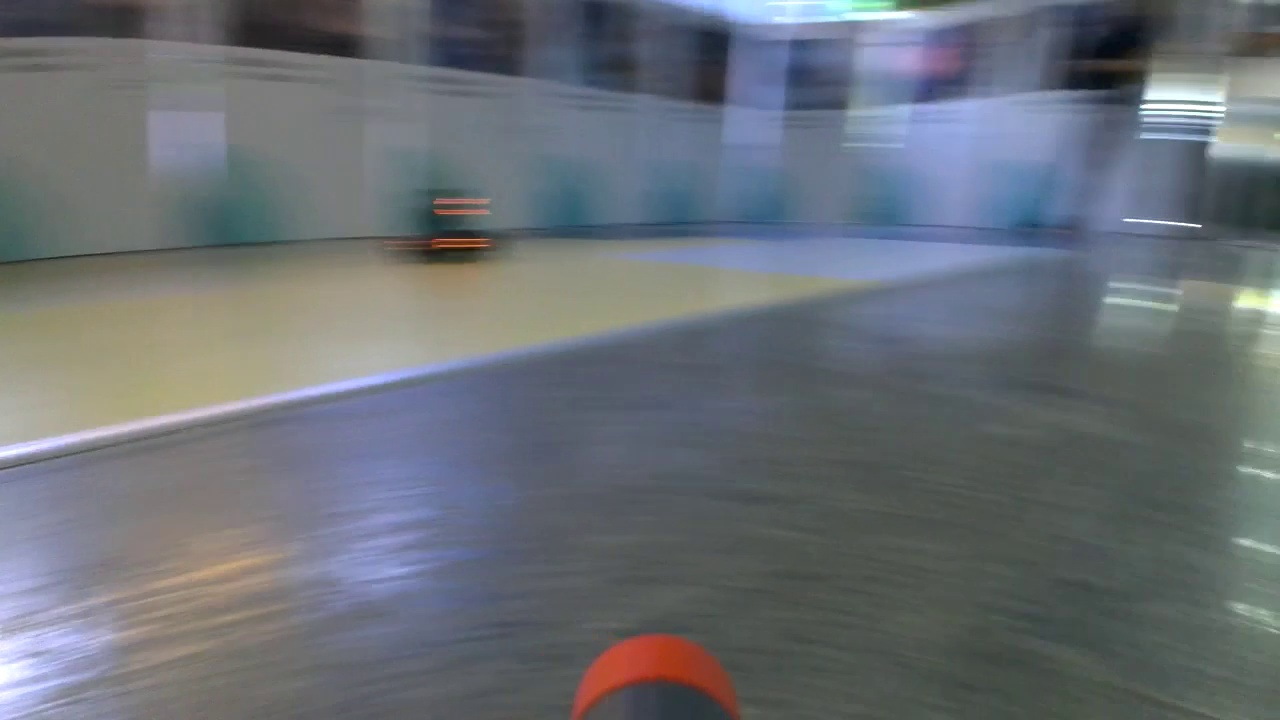robot: (405, 187, 495, 258)
